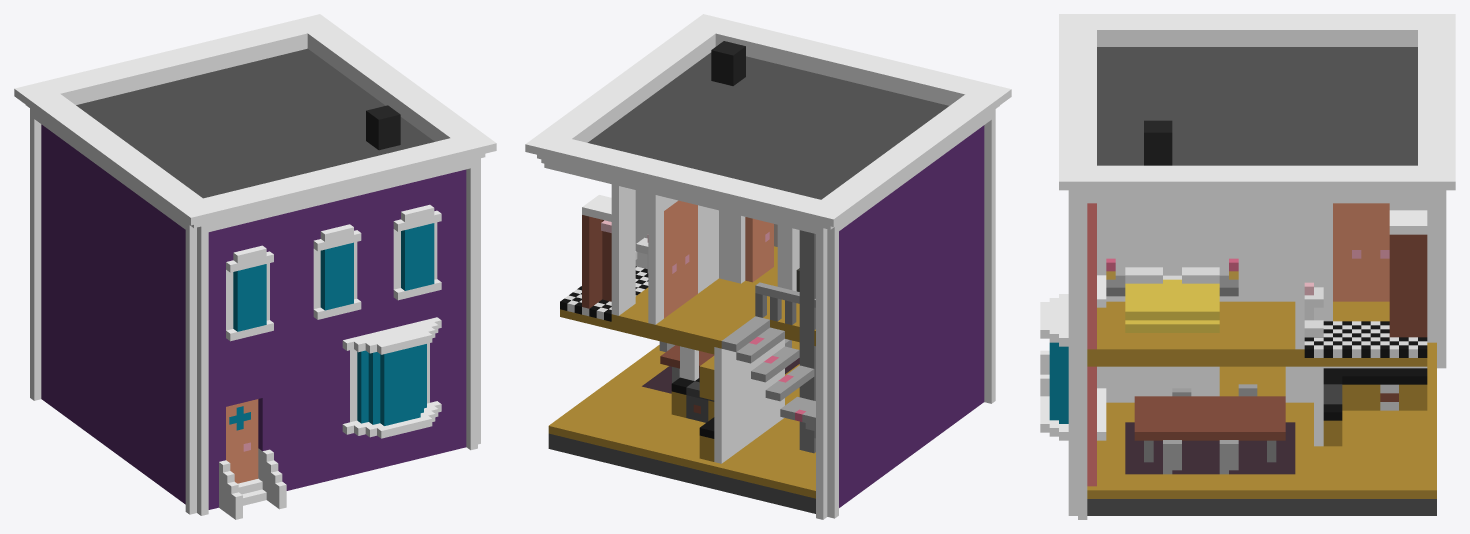
3 views of the same model, side by side, from view 1: azimuth 30°, elevation 25°; view 2: azimuth 150°, elevation 25°; view 3: azimuth 270°, elevation 25° (orthographic). The views are drawn at different scales.
Parts seen in each view (by area): view 1: Untitled; view 2: Untitled; view 3: Untitled.
Part boxes in pixels (left/top/right/bottom): Untitled: left=14, top=14, right=496, bottom=519; Untitled: left=525, top=14, right=1011, bottom=519; Untitled: left=1040, top=14, right=1455, bottom=519.
Size of what is drawn, in the model's own units: 4.2 by 4.2 by 4.4.
1 material, 1 textured.
